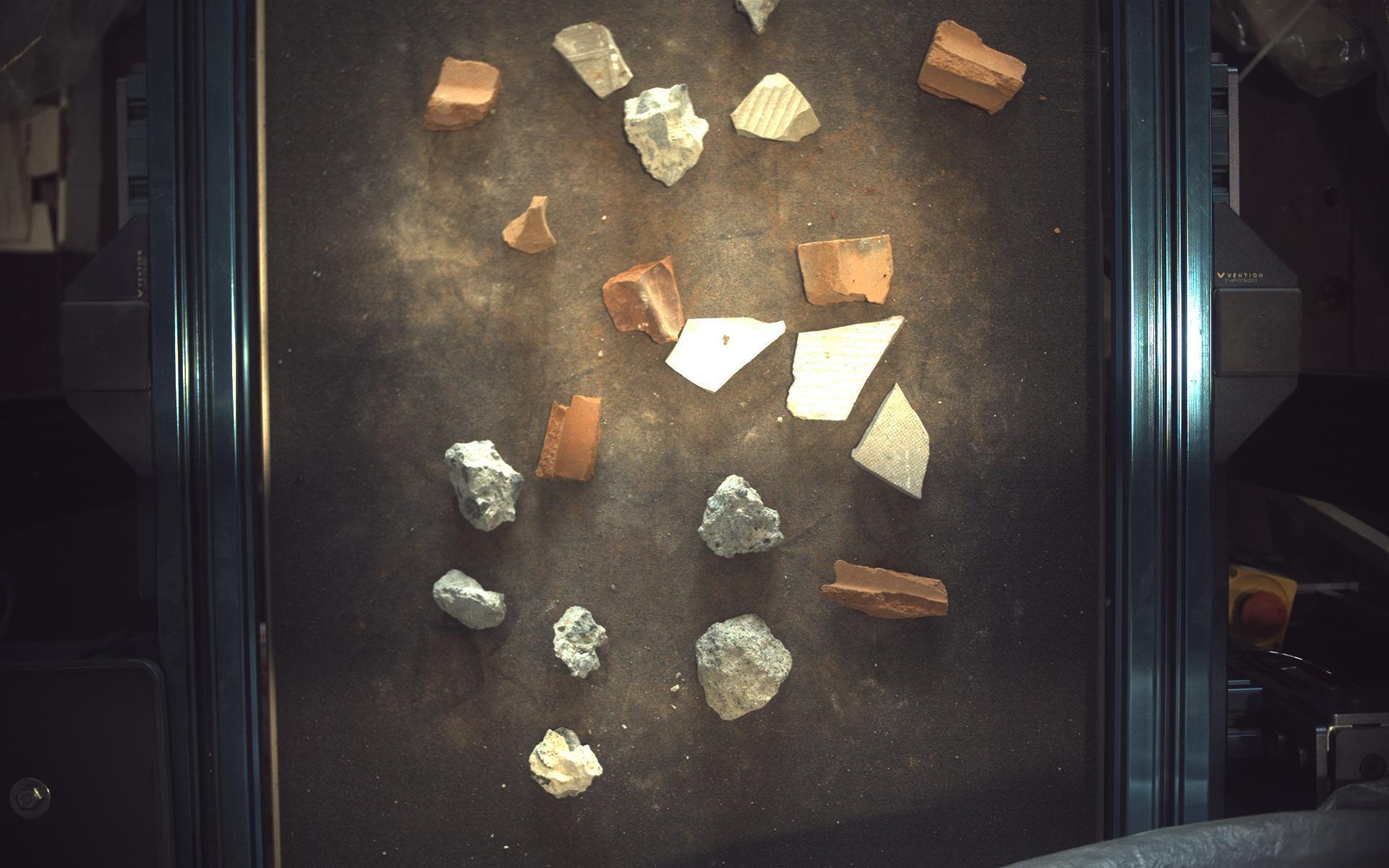brick: (921, 19, 1028, 113), (603, 255, 686, 344), (823, 561, 950, 619), (799, 235, 895, 305), (536, 395, 602, 482), (424, 56, 501, 129), (503, 195, 556, 253)
concrete: (697, 615, 794, 722), (624, 82, 710, 185), (445, 441, 524, 532), (699, 475, 785, 558), (530, 728, 603, 799), (434, 571, 505, 631), (554, 607, 608, 679)
tile: (789, 315, 905, 421), (853, 383, 931, 499), (667, 317, 787, 392), (732, 72, 821, 141), (553, 21, 634, 96)
